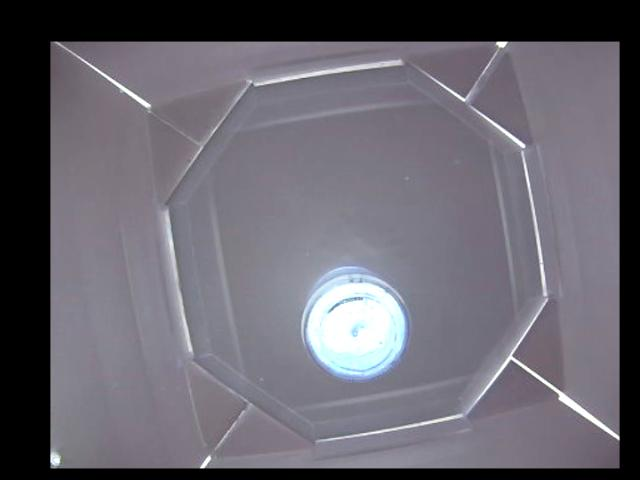Bottle: (300, 267, 411, 380)
